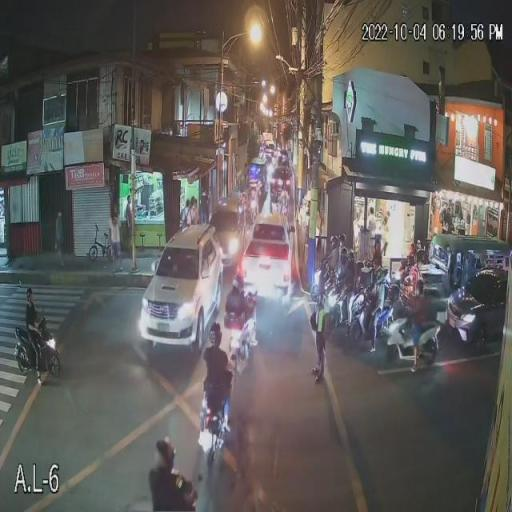helmet: (155, 440, 176, 472), (205, 325, 225, 352), (231, 274, 246, 295), (415, 280, 426, 296), (24, 290, 34, 304), (340, 249, 347, 265), (372, 237, 380, 250), (348, 255, 357, 266), (329, 236, 336, 248), (337, 235, 344, 247)
motorcycle: (385, 312, 442, 371), (11, 321, 63, 376), (329, 279, 373, 327), (232, 297, 260, 371), (200, 393, 229, 460), (305, 263, 336, 296)
rider: (154, 433, 186, 512), (204, 325, 232, 401), (23, 289, 39, 364), (407, 282, 426, 341), (229, 271, 244, 325), (348, 254, 356, 313), (372, 236, 382, 272), (328, 234, 337, 267), (339, 250, 347, 286), (336, 236, 344, 266)
